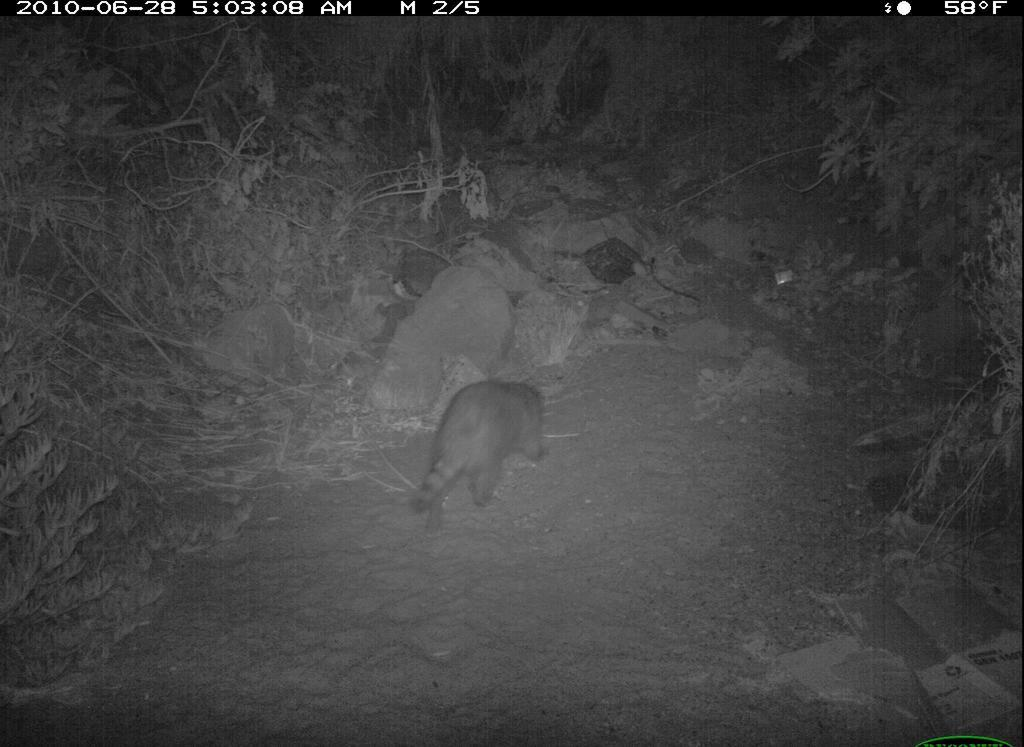raccoon: (414, 377, 553, 527)
